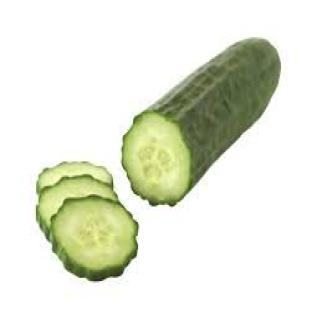Cucumber: (122, 39, 280, 204), (51, 196, 137, 280), (37, 176, 118, 239), (37, 162, 113, 194)
